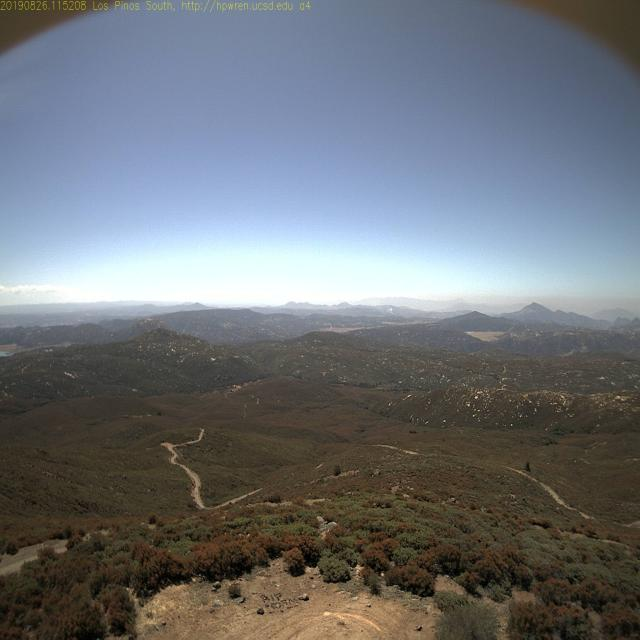smoke: (384, 305, 396, 317)
